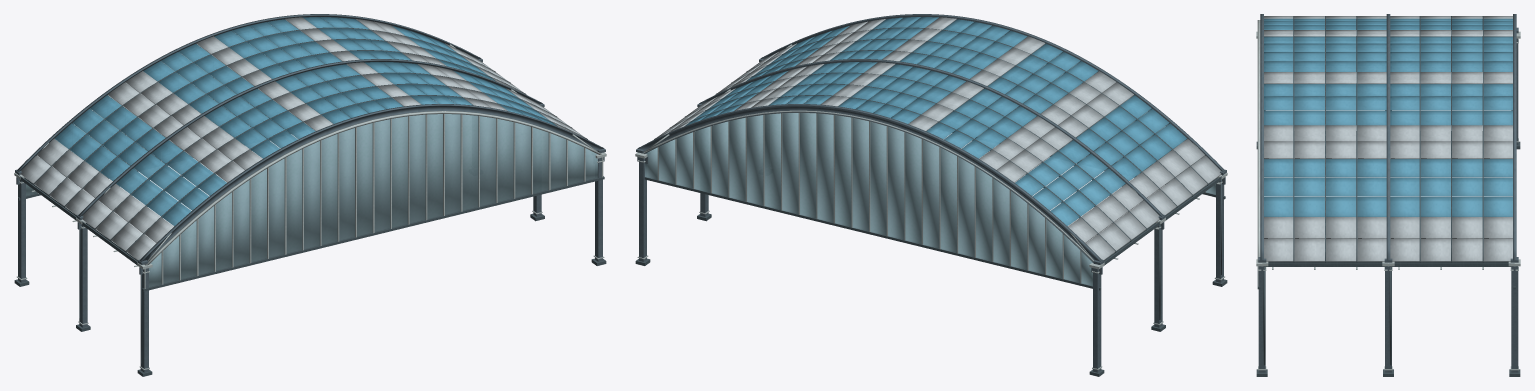
3 views of the same model, side by side, from view 1: azimuth 30°, elevation 25°; view 2: azimuth 150°, elevation 25°; view 3: azimuth 270°, elevation 25° (orthographic). The views are drawn at different scales.
Visible parts, largest first — view 1: VIS_Terminal_Roof_Two_Bay_LOD0_facade, VIS_Terminal_Roof_Two_Bay_LOD0_glazing, VIS_Terminal_Roof_Two_Bay_LOD0_roof_metal, VIS_Terminal_Roof_Two_Bay_LOD0_steel, VIS_Terminal_Roof_Two_Bay_LOD0_bright_metal, VIS_Terminal_Roof_Two_Bay_LOD0_roof_edge; view 2: VIS_Terminal_Roof_Two_Bay_LOD0_facade, VIS_Terminal_Roof_Two_Bay_LOD0_glazing, VIS_Terminal_Roof_Two_Bay_LOD0_roof_metal, VIS_Terminal_Roof_Two_Bay_LOD0_steel, VIS_Terminal_Roof_Two_Bay_LOD0_roof_edge, VIS_Terminal_Roof_Two_Bay_LOD0_bright_metal; view 3: VIS_Terminal_Roof_Two_Bay_LOD0_glazing, VIS_Terminal_Roof_Two_Bay_LOD0_roof_metal, VIS_Terminal_Roof_Two_Bay_LOD0_steel, VIS_Terminal_Roof_Two_Bay_LOD0_roof_edge, VIS_Terminal_Roof_Two_Bay_LOD0_bright_metal.
Part boxes in pixels (left/top/right/bottom): VIS_Terminal_Roof_Two_Bay_LOD0_facade: left=26, top=23, right=597, bottom=287; VIS_Terminal_Roof_Two_Bay_LOD0_glazing: left=54, top=17, right=556, bottom=226; VIS_Terminal_Roof_Two_Bay_LOD0_roof_metal: left=20, top=17, right=587, bottom=260; VIS_Terminal_Roof_Two_Bay_LOD0_steel: left=15, top=14, right=605, bottom=372; VIS_Terminal_Roof_Two_Bay_LOD0_bright_metal: left=14, top=25, right=606, bottom=369; VIS_Terminal_Roof_Two_Bay_LOD0_roof_edge: left=14, top=27, right=606, bottom=376; VIS_Terminal_Roof_Two_Bay_LOD0_facade: left=645, top=23, right=1215, bottom=286; VIS_Terminal_Roof_Two_Bay_LOD0_glazing: left=685, top=17, right=1187, bottom=226; VIS_Terminal_Roof_Two_Bay_LOD0_roof_metal: left=654, top=17, right=1221, bottom=260; VIS_Terminal_Roof_Two_Bay_LOD0_steel: left=636, top=14, right=1226, bottom=372; VIS_Terminal_Roof_Two_Bay_LOD0_roof_edge: left=635, top=27, right=1227, bottom=376; VIS_Terminal_Roof_Two_Bay_LOD0_bright_metal: left=635, top=44, right=1227, bottom=369; VIS_Terminal_Roof_Two_Bay_LOD0_glazing: left=1264, top=18, right=1512, bottom=216; VIS_Terminal_Roof_Two_Bay_LOD0_roof_metal: left=1264, top=16, right=1512, bottom=261; VIS_Terminal_Roof_Two_Bay_LOD0_steel: left=1258, top=14, right=1518, bottom=372; VIS_Terminal_Roof_Two_Bay_LOD0_roof_edge: left=1256, top=16, right=1520, bottom=376; VIS_Terminal_Roof_Two_Bay_LOD0_bright_metal: left=1256, top=20, right=1520, bottom=370.
Size of the model in its own units: 52.41 by 22.13 by 25.15.
6 materials, 6 textured.
